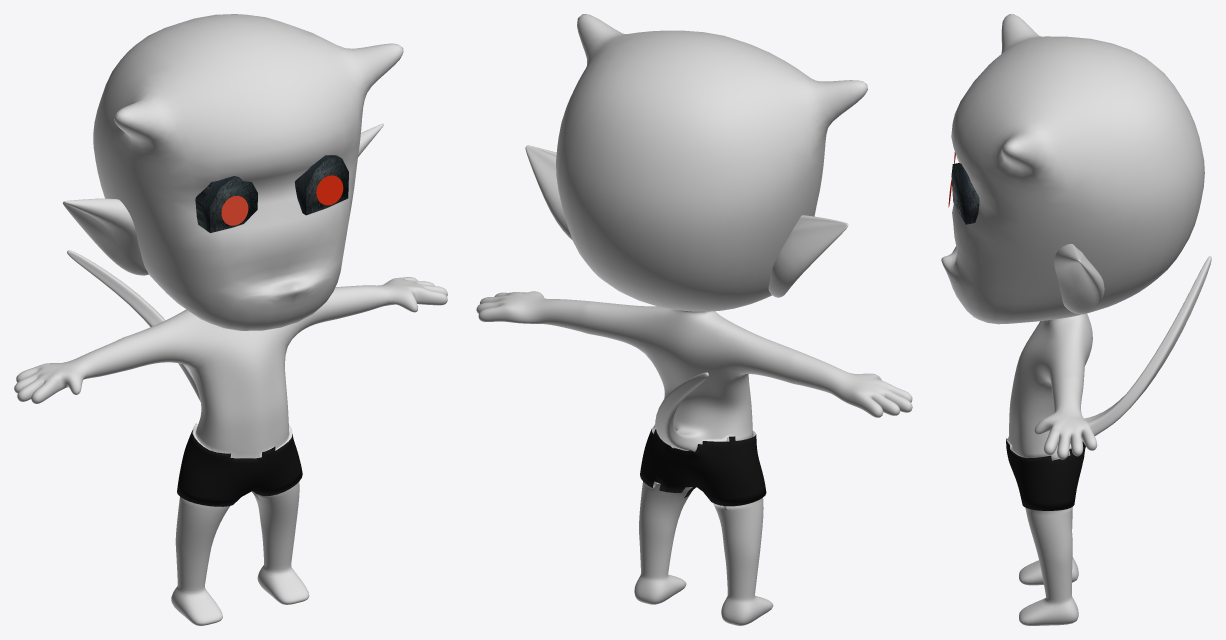
The model's file is devil.fbx.
3 views of the same model, side by side, from view 1: azimuth 30°, elevation 25°; view 2: azimuth 150°, elevation 25°; view 3: azimuth 270°, elevation 25° (orthographic). The views are drawn at different scales.
Parts seen in each view (by area): view 1: Circle.003; view 2: Circle.003; view 3: Circle.003.
Boxes of the visible parts, x1,y1,x2,y2 form: Circle.003: [14, 14, 447, 625]; Circle.003: [476, 14, 912, 625]; Circle.003: [941, 14, 1211, 625].
Size of the model in its own units: 76.34 by 96.49 by 43.21.
